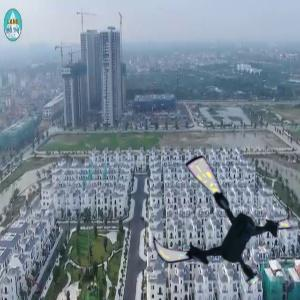drone: (151, 156, 289, 294)
